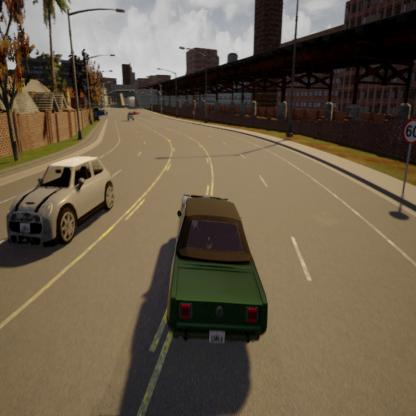Cars: (160, 187, 276, 362), (2, 147, 118, 255), (126, 110, 136, 124)
